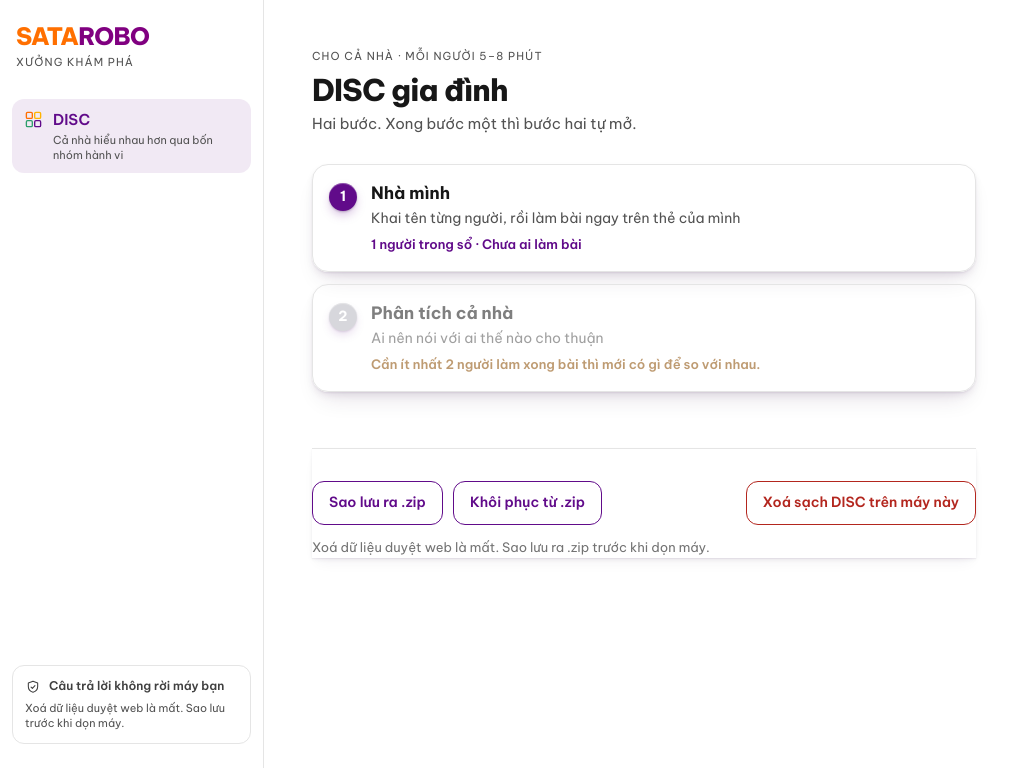
Test: 🔴 vào bài từ thẻ — KHÔNG hỏi tên lần nữa › 🔴 người ĐANG ĐI HỌC mà chưa có lớp: NÓI RA, không trắng màn
The width and height of the screenshot is (1024, 768).
Click the button "Nhà mình": (644, 218) [313,164,975,270]
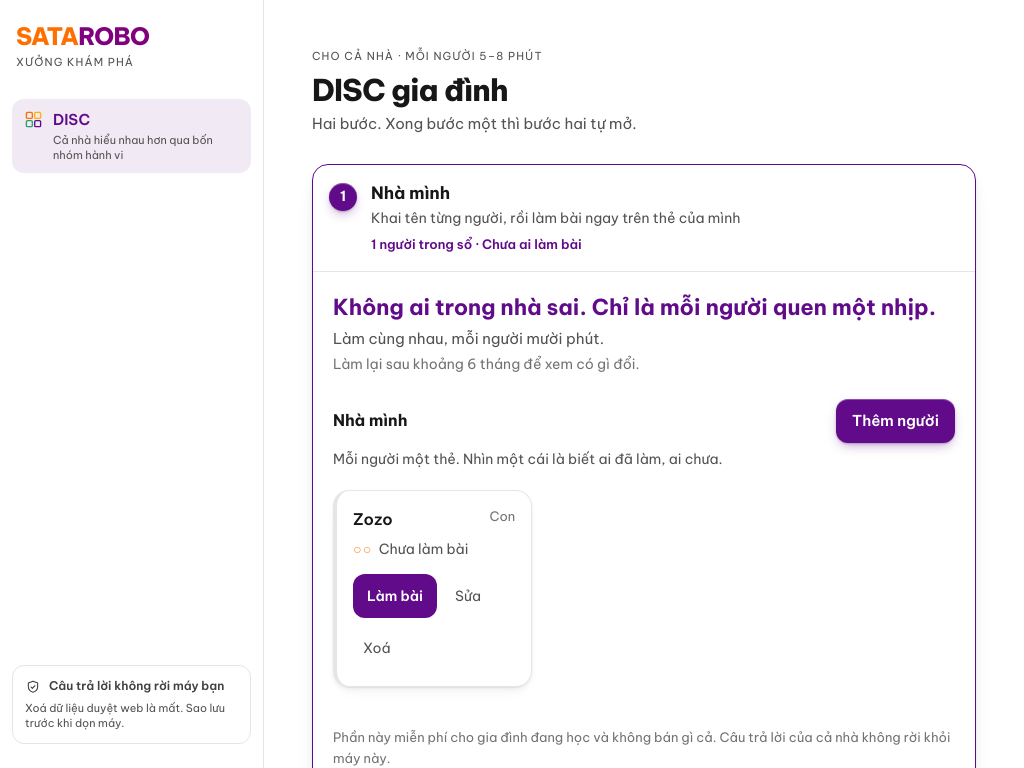
Check: the list is shown, box [333,490,532,687]
Click the button "Làm bài": (395, 596) [353,574,437,618]
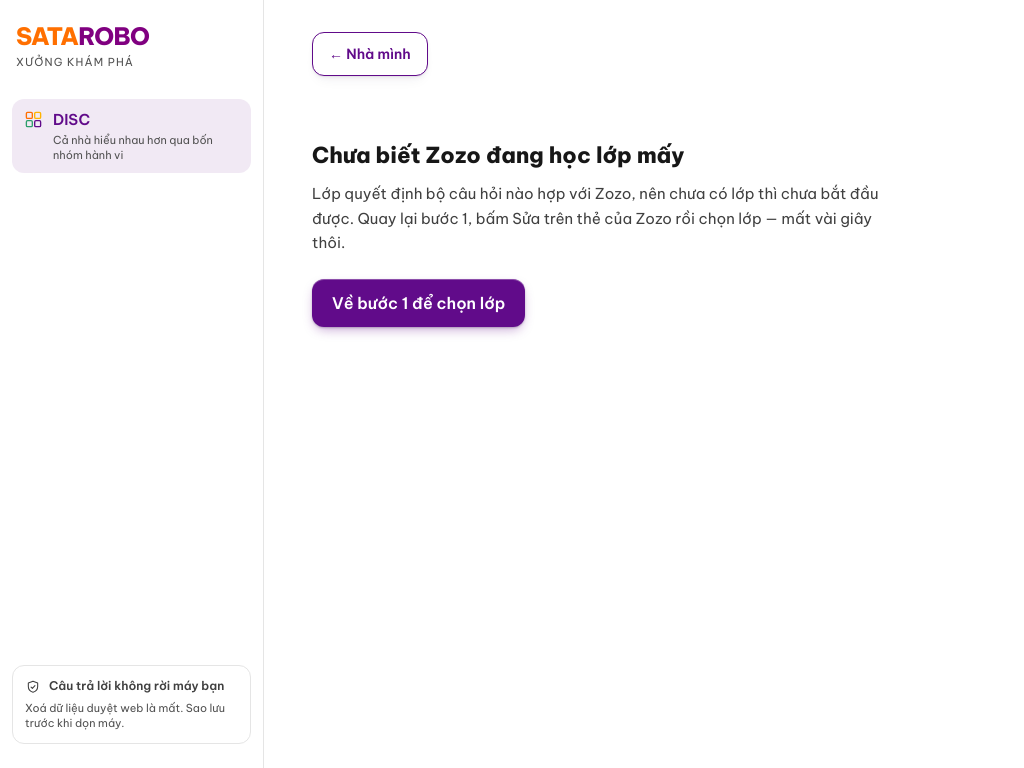
Check: the element that starts with "Chưa biết Zozo đang học lớp mấy" is shown, box [312,141,878,327]
